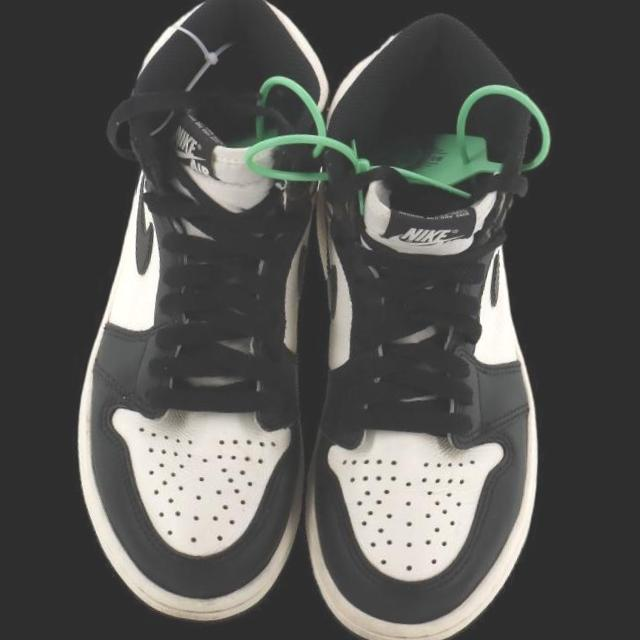nike_original_jordan: (257, 0, 603, 640), (50, 0, 369, 639)
